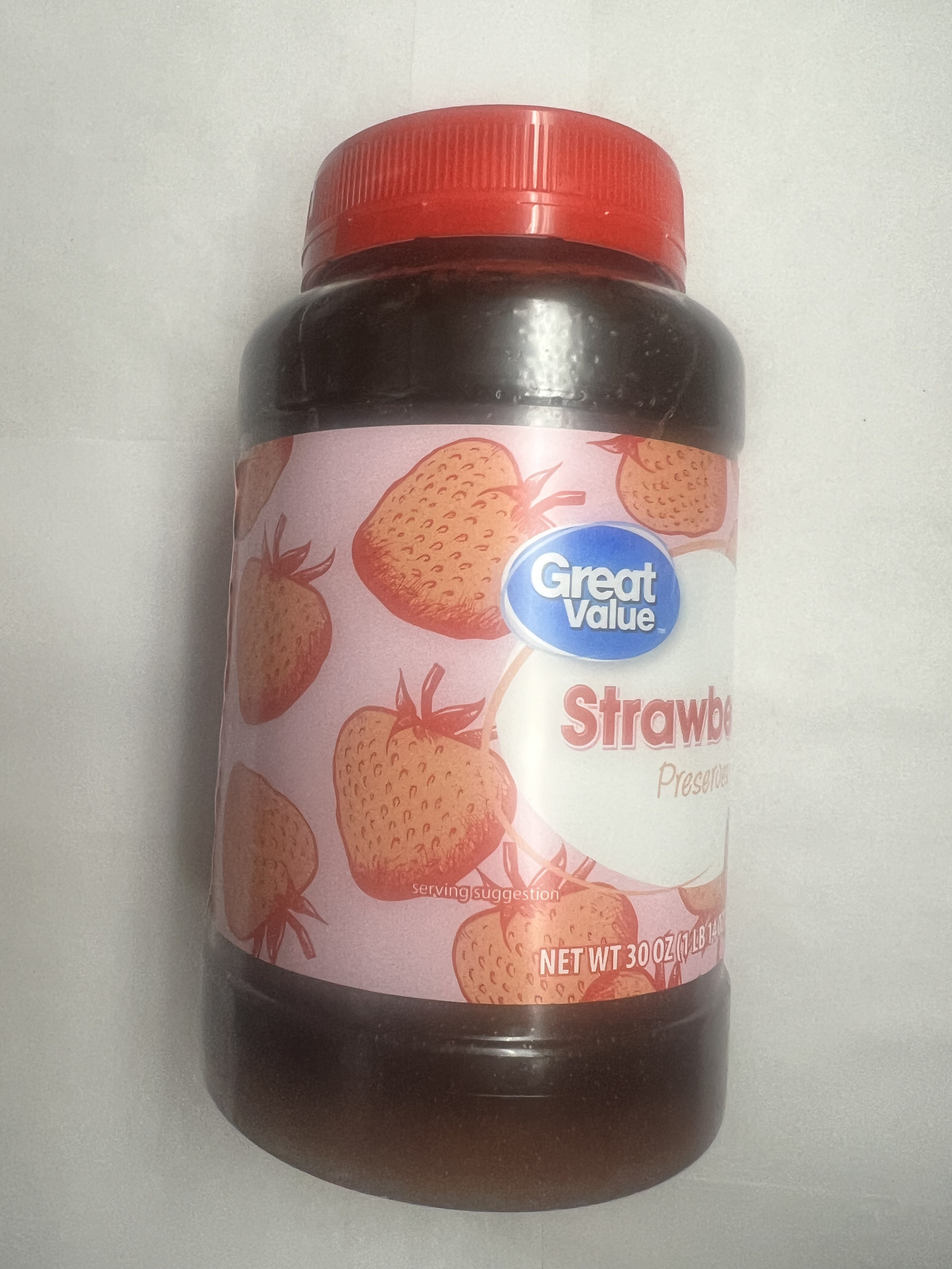packaged: (201, 96, 748, 1215)
